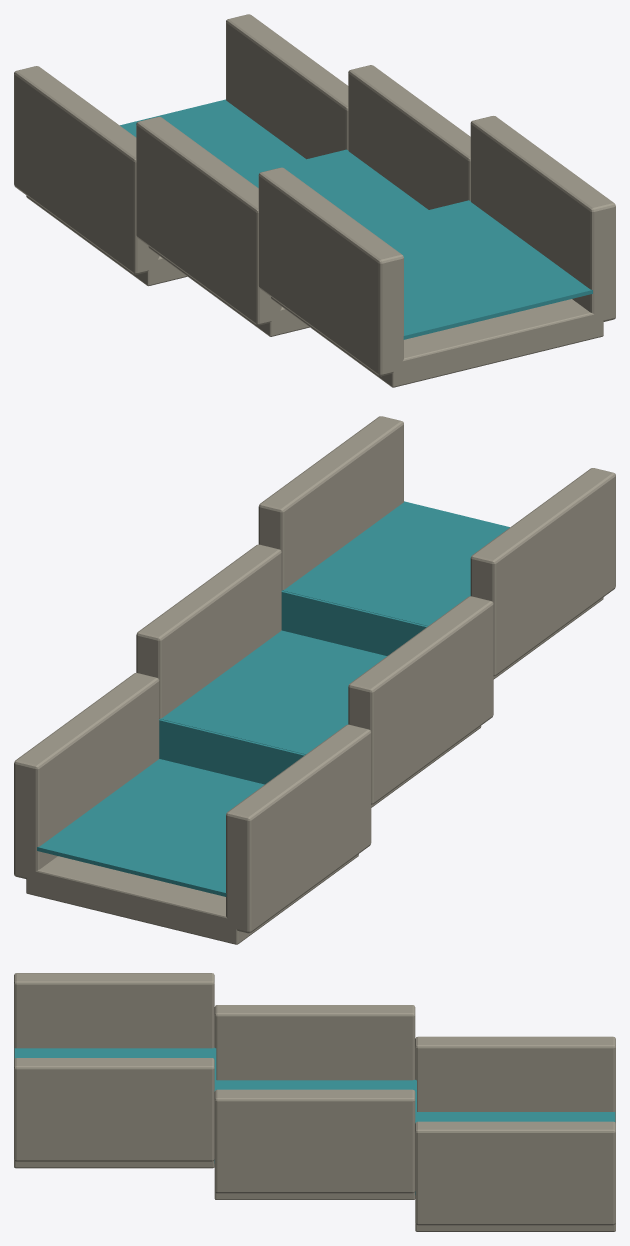
The model's file is Channel_Spillway_Flowing.glb.
3 views of the same model, one above another, from view 1: azimuth 30°, elevation 25°; view 2: azimuth 150°, elevation 25°; view 3: azimuth 270°, elevation 25° (orthographic). The views are drawn at different scales.
Visible parts, largest first — view 1: Structure, Water; view 2: Structure, Water; view 3: Structure, Water.
Part boxes in pixels (x1,y1,x2,y2): Structure: (14, 14, 615, 387); Water: (120, 99, 592, 339); Structure: (14, 416, 615, 944); Water: (37, 501, 509, 896); Structure: (14, 973, 615, 1231); Water: (14, 1047, 615, 1194).
Size of the model in its own units: 2.24 by 1.88 by 6.
